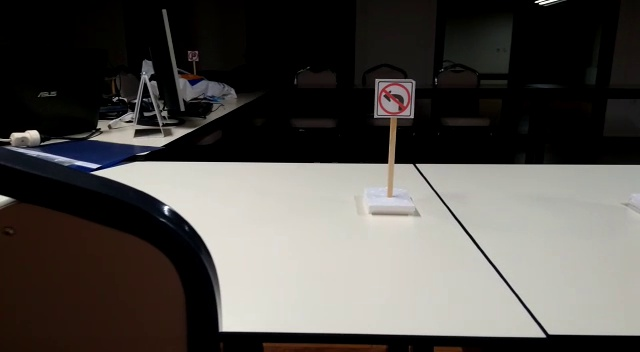sola_donulmez: (376, 75, 416, 114)
